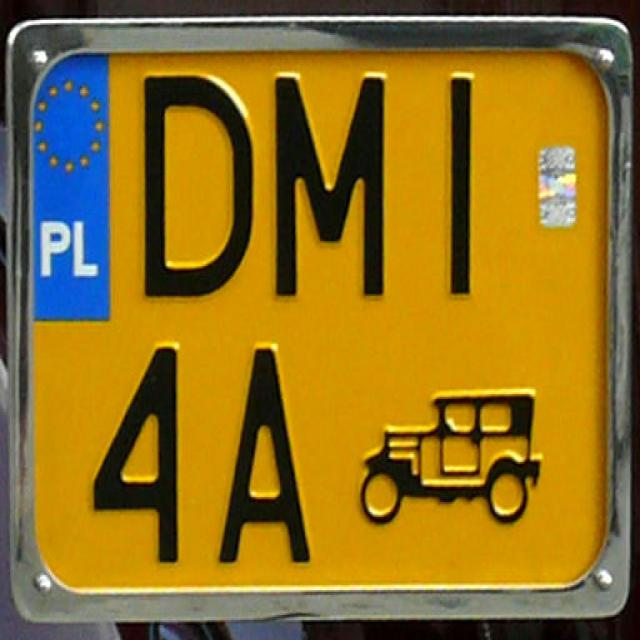pl_license_plate: (27, 42, 618, 590)
